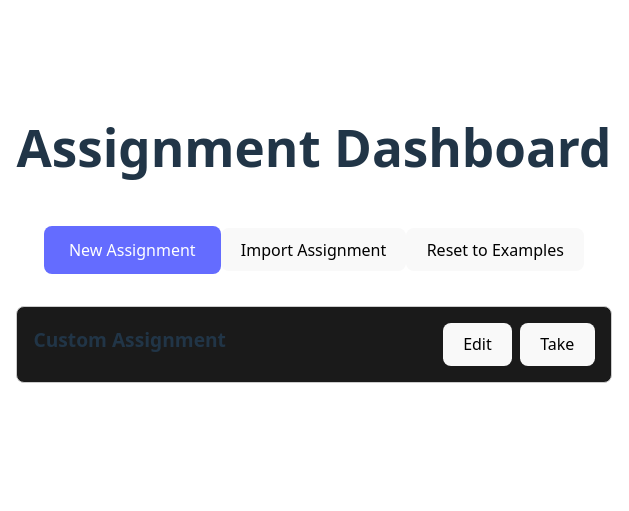
App Component › App localStorage integration › reset button restores sample assignments
The width and height of the screenshot is (629, 511).
Expected: the heading "Custom Assignment" is shown, [34,326,226,353]
// Click reset button
Click the button with test id "reset-button": {"x": 495, "y": 250} [406,228,584,272]
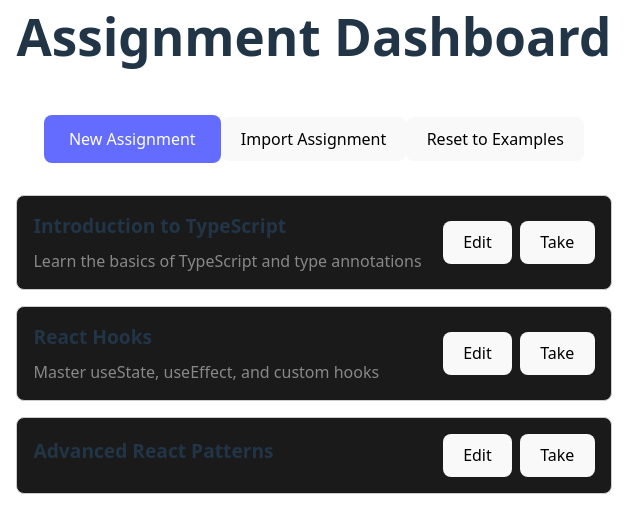
Expected: the heading "Introduction to TypeScript" is shown, [34,212,286,239]
Expected: the heading "React Hooks" is shown, [34,323,152,350]
Expected: the heading "Advanced React Patterns" is shown, [34,437,274,464]
